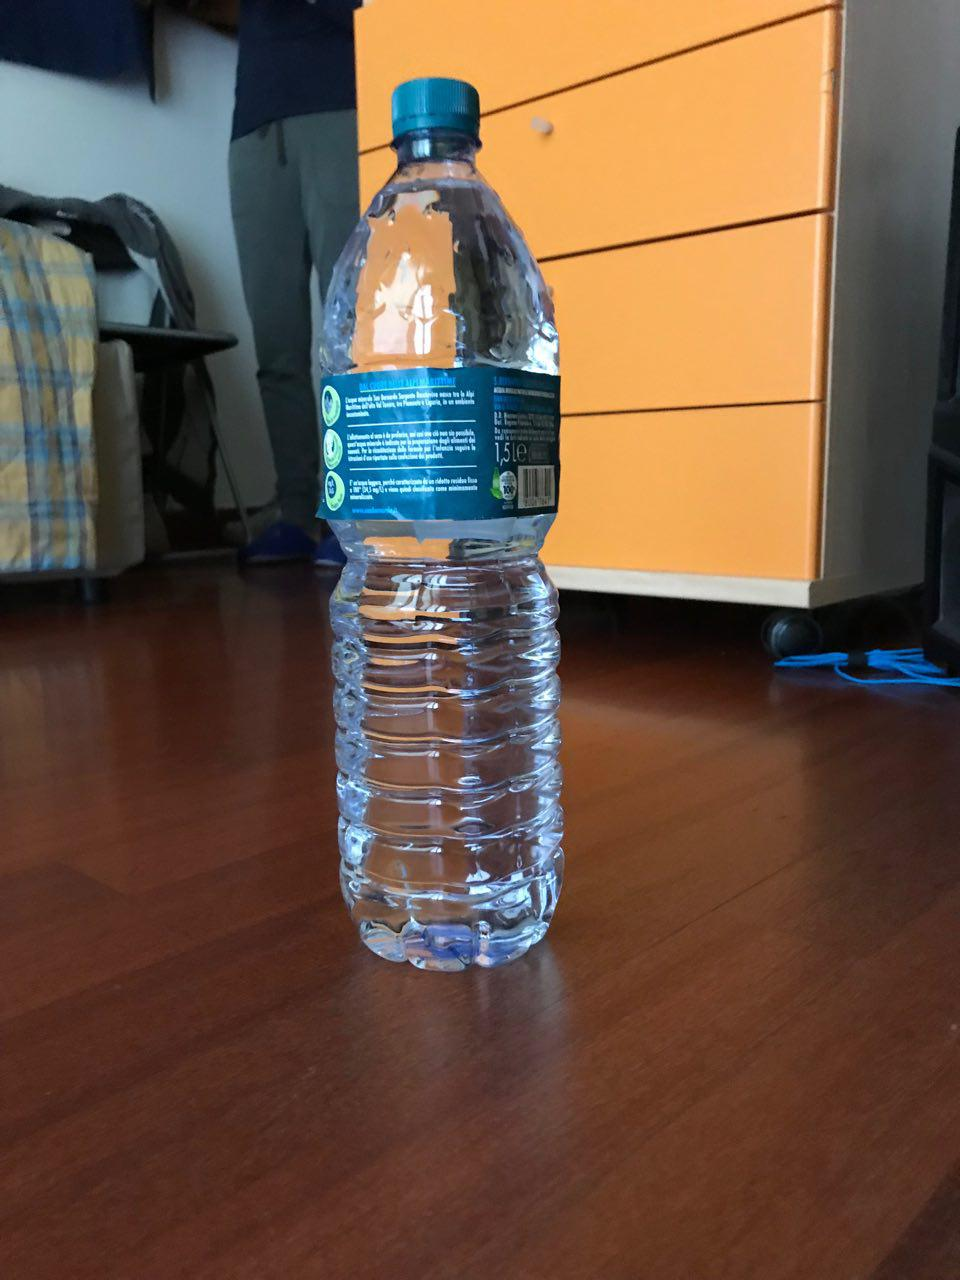san_bernardo: (315, 75, 567, 978)
